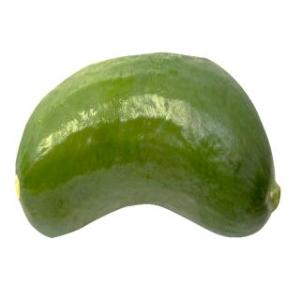cucumber: (15, 50, 286, 244)
